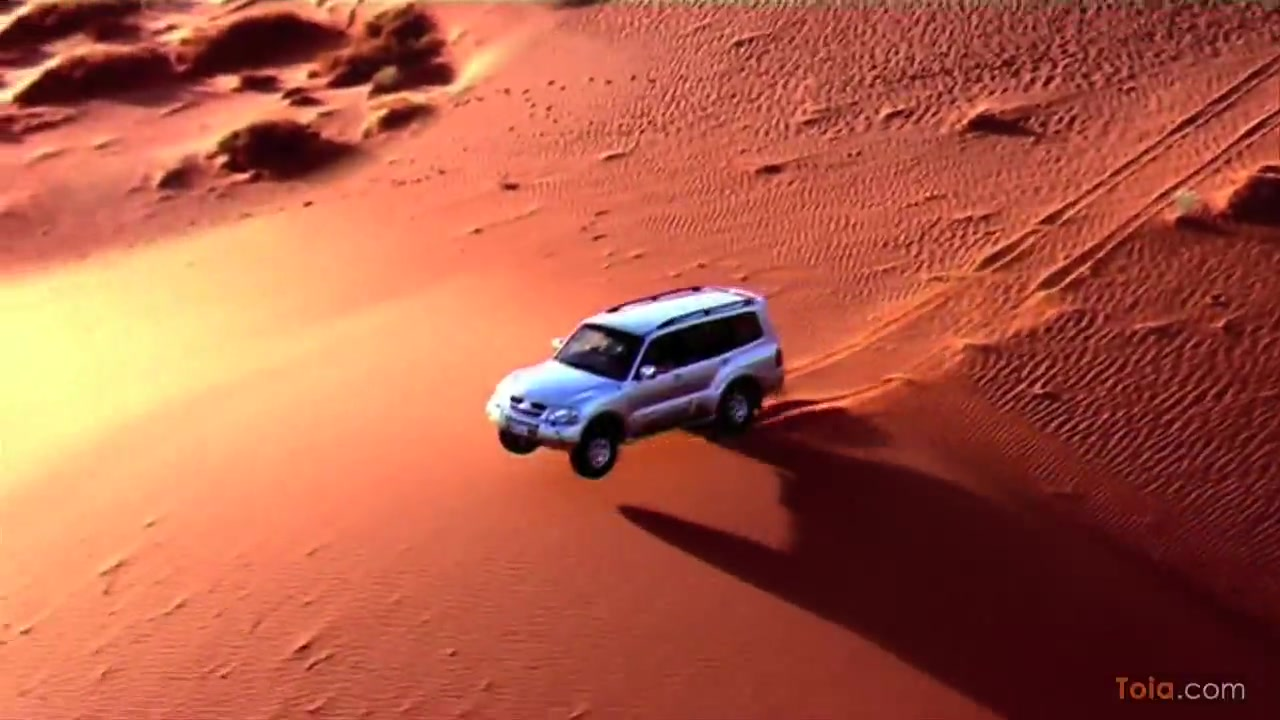car: (486, 283, 795, 477)
